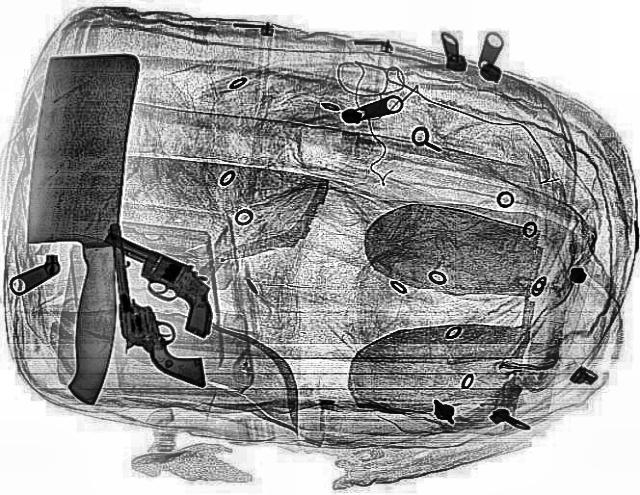Gun: (68, 226, 248, 338), (109, 220, 203, 388)
Knife: (24, 53, 138, 404)
